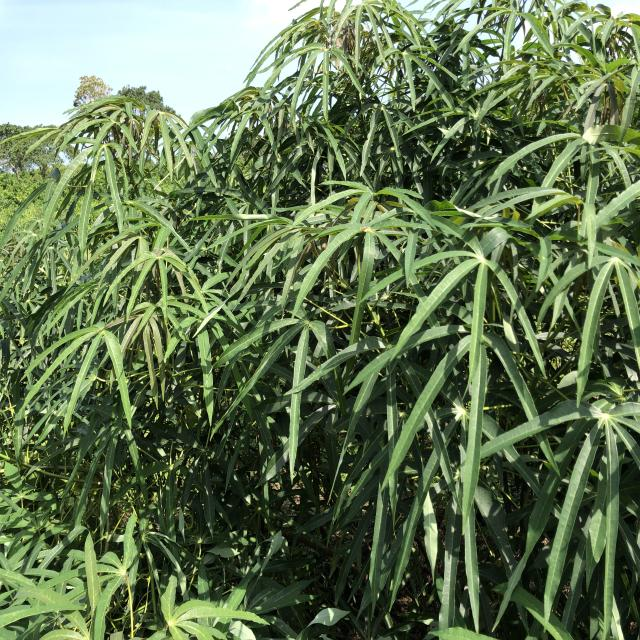Mosca: (358, 223, 377, 236)
